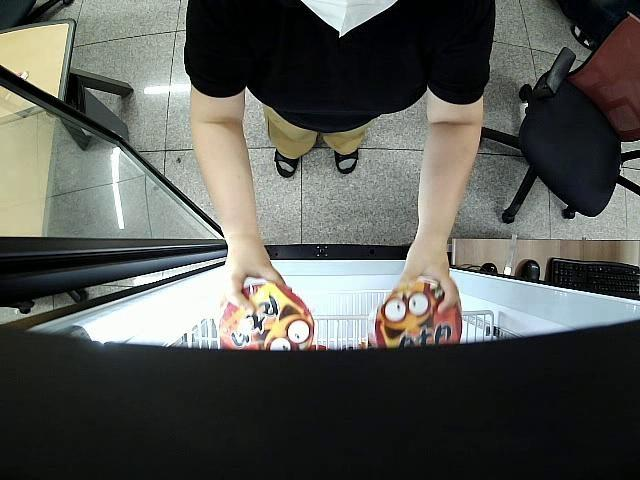05_nuguri_L: (216, 283, 314, 354), (371, 279, 463, 352)
